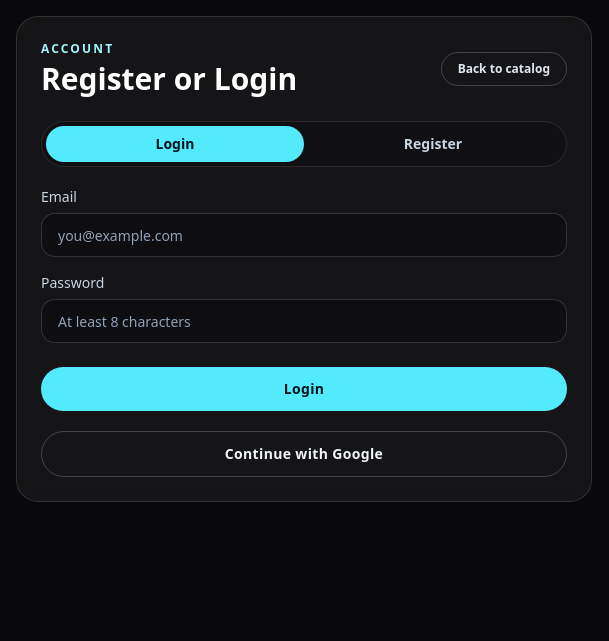
Test case: AuthClient › submits register payload and redirects on success
Step 1. Click the button "Register" → (433, 144), box 304,126 -> 562,162
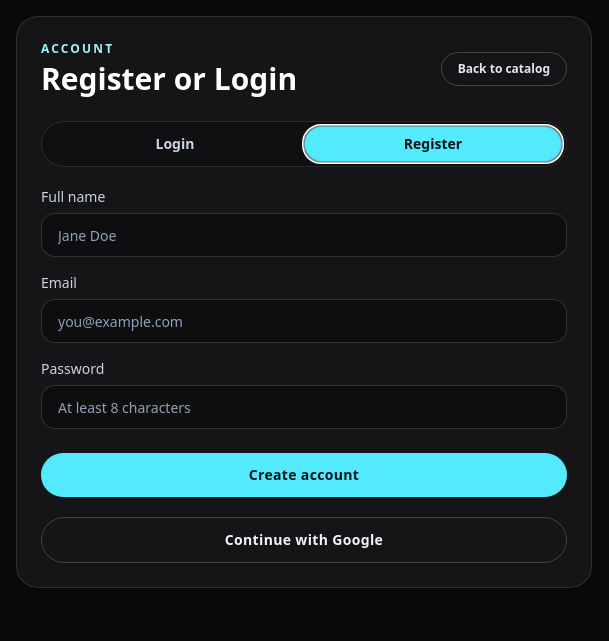
Step 2. Type "New User" into the field with placeholder "Jane Doe" → (304, 235), box 41,213 -> 567,257
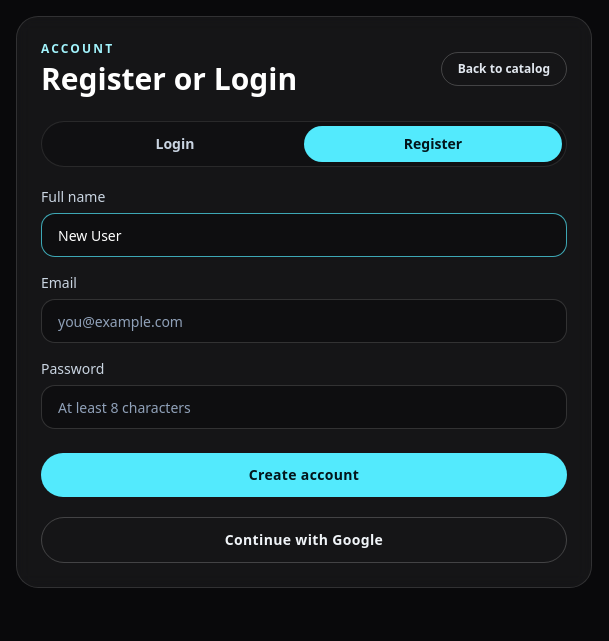
Step 3. Type "new@example.com" into the field with placeholder "you@example.com" → (304, 321), box 41,299 -> 567,343
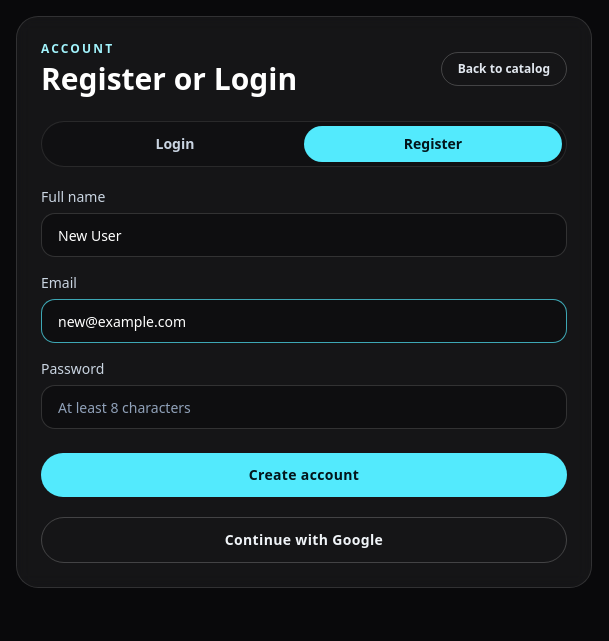
Step 4. Type "P@ssw0rd!" into the password field with placeholder "At least 8 characters" → (304, 407), box 41,385 -> 567,429
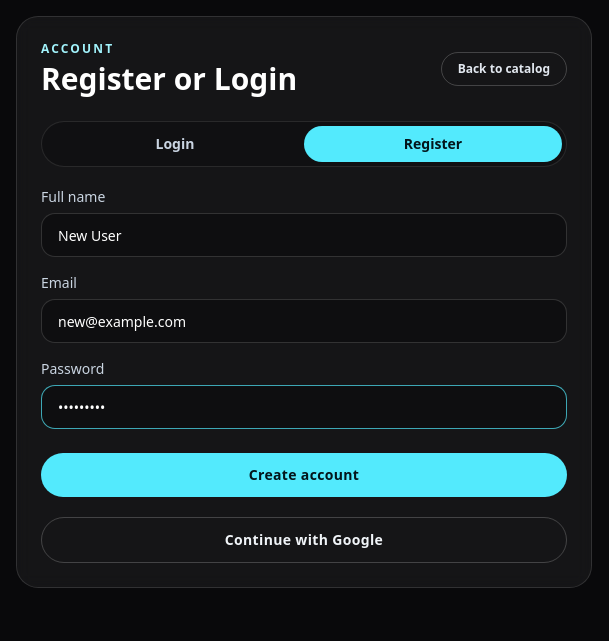
Step 5. Click the button "Create account" → (304, 475), box 41,453 -> 567,497
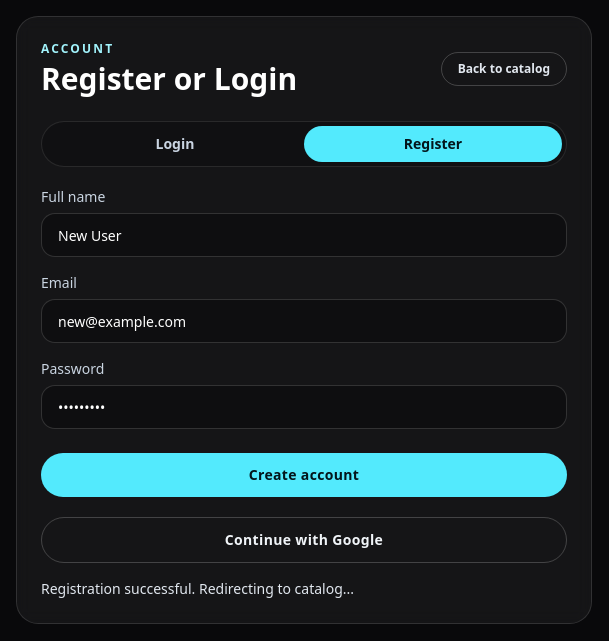
Expected: the text "Registration successful. Redirecting to catalog..." is shown, 41,579 -> 354,598
